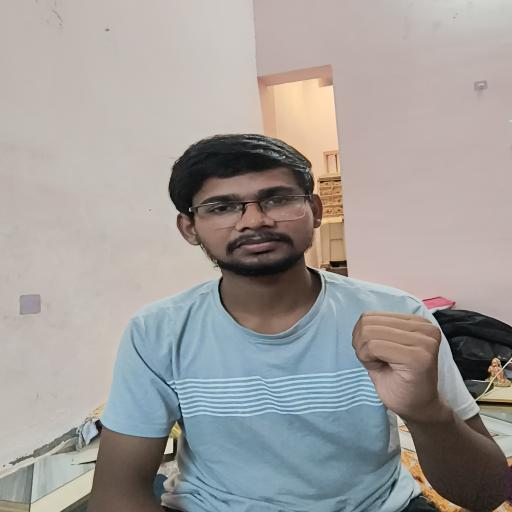wait: (330, 297, 476, 453)
